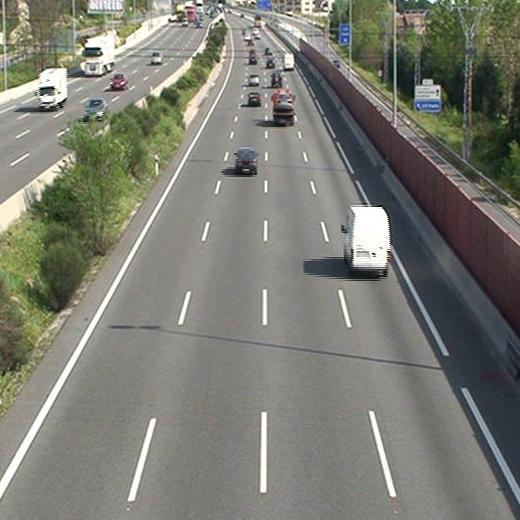car: (236, 147, 258, 175), (276, 93, 294, 109), (247, 92, 260, 106), (270, 72, 281, 87), (248, 74, 260, 85), (247, 54, 258, 65), (265, 57, 275, 68)
small-truck: (271, 91, 295, 124)
van: (343, 206, 389, 277), (284, 54, 294, 69)
